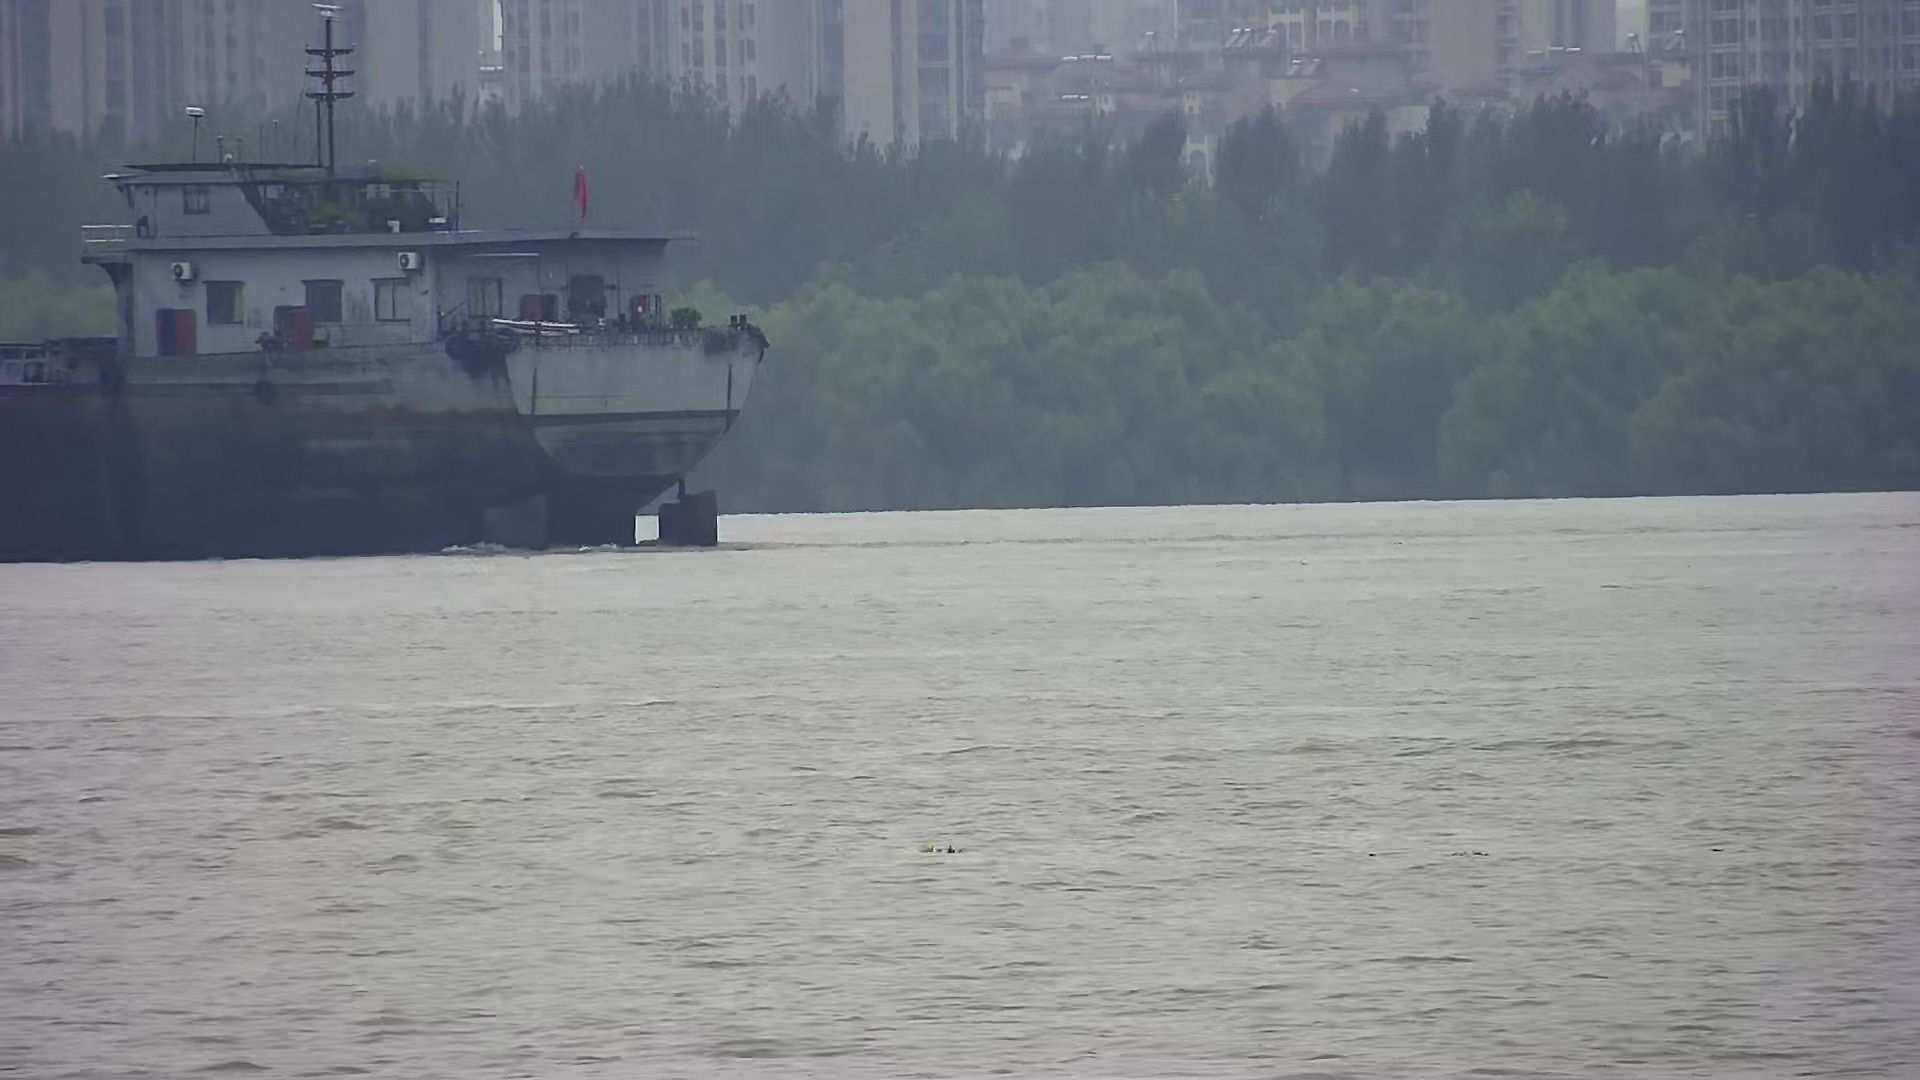ship: (3, 146, 762, 560)
